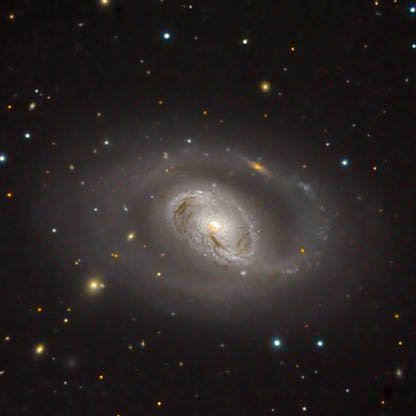Messier 96: (34, 128, 384, 332)
